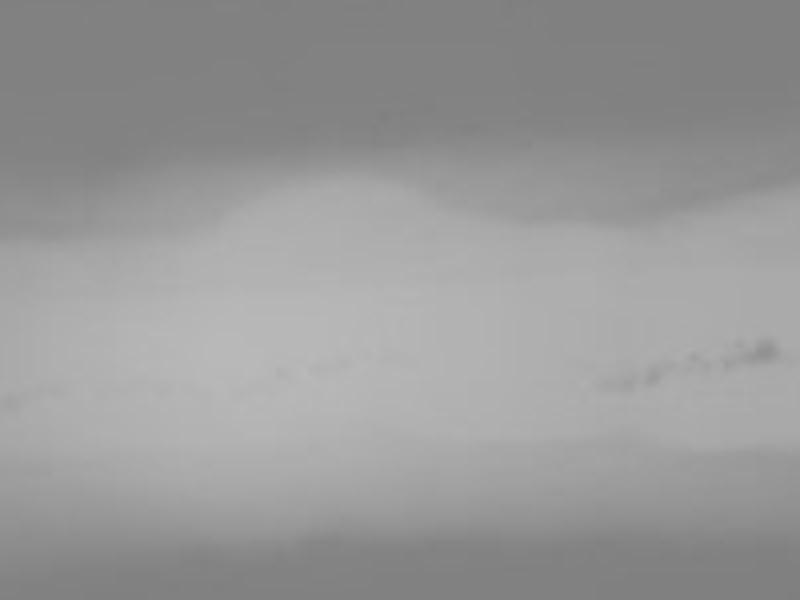defect: (600, 373, 630, 397), (754, 339, 781, 365), (4, 391, 25, 421), (640, 364, 665, 389), (721, 352, 742, 374), (742, 347, 754, 365), (699, 359, 713, 374), (684, 348, 698, 361)
